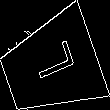L_W: (25, 43, 77, 90)
